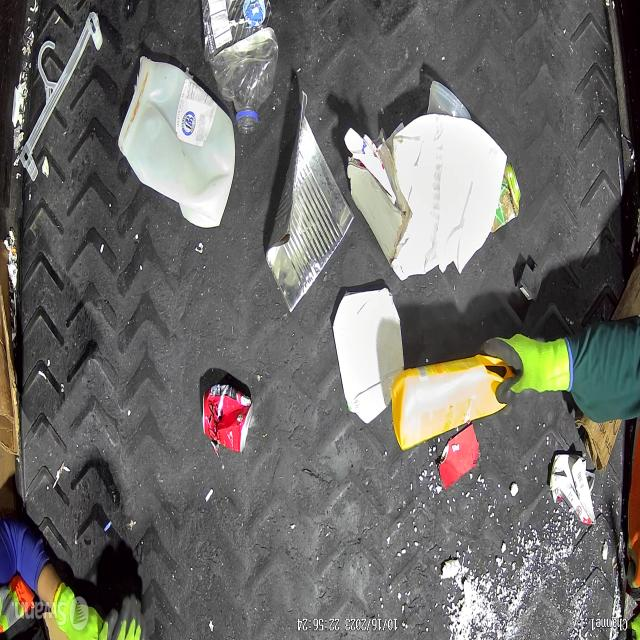can: (263, 87, 355, 316), (202, 384, 253, 455)
milk_jug: (118, 55, 236, 228)
non_white_jug: (391, 353, 512, 449)
plastic_bottle: (202, 0, 278, 134)
